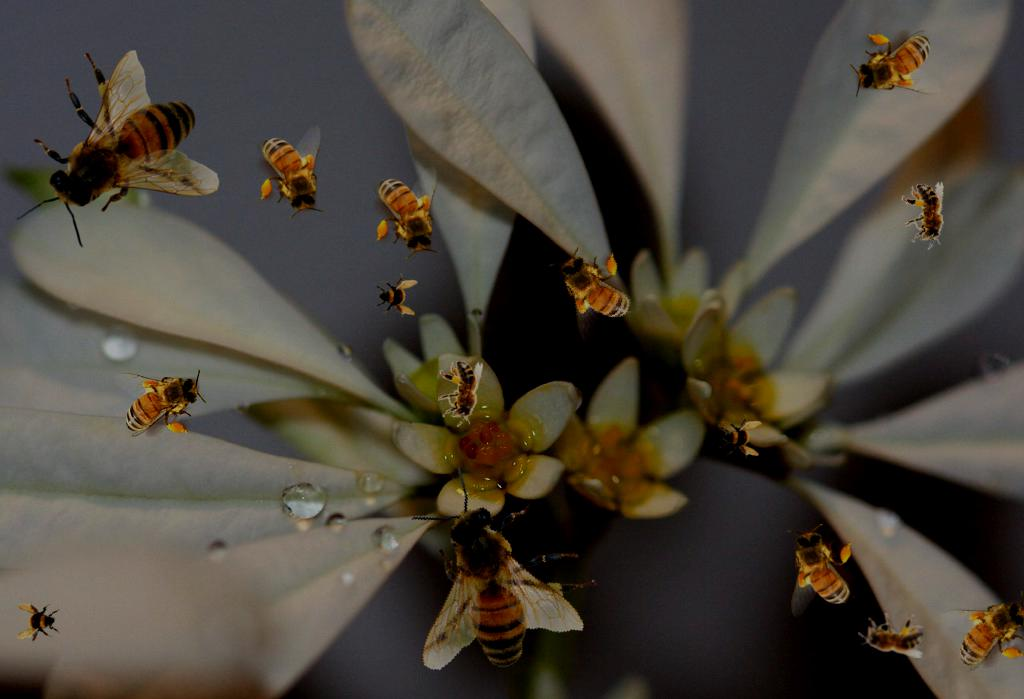Bee: (367, 455, 620, 699), (16, 50, 220, 249), (546, 234, 644, 347), (937, 589, 1024, 676), (787, 524, 855, 617), (850, 30, 943, 98), (113, 369, 206, 437), (373, 166, 441, 259), (257, 125, 325, 218), (898, 180, 954, 253), (438, 361, 483, 427), (858, 613, 924, 658), (15, 600, 61, 646), (374, 273, 418, 317), (718, 414, 762, 458)
